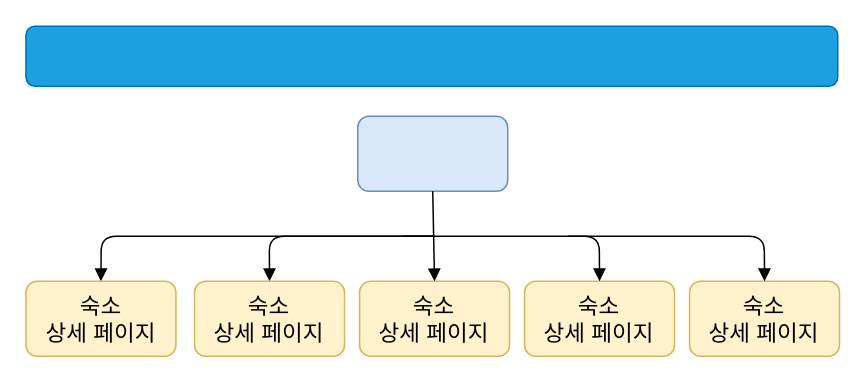
Image size: 867x383. Some labels were removed from this diagram. The centre of each missing label's shape, as x and y in pixels:
"rec.jsp" belongs at (x=431, y=55).
"숙소 리스트" belongs at (x=432, y=153).
